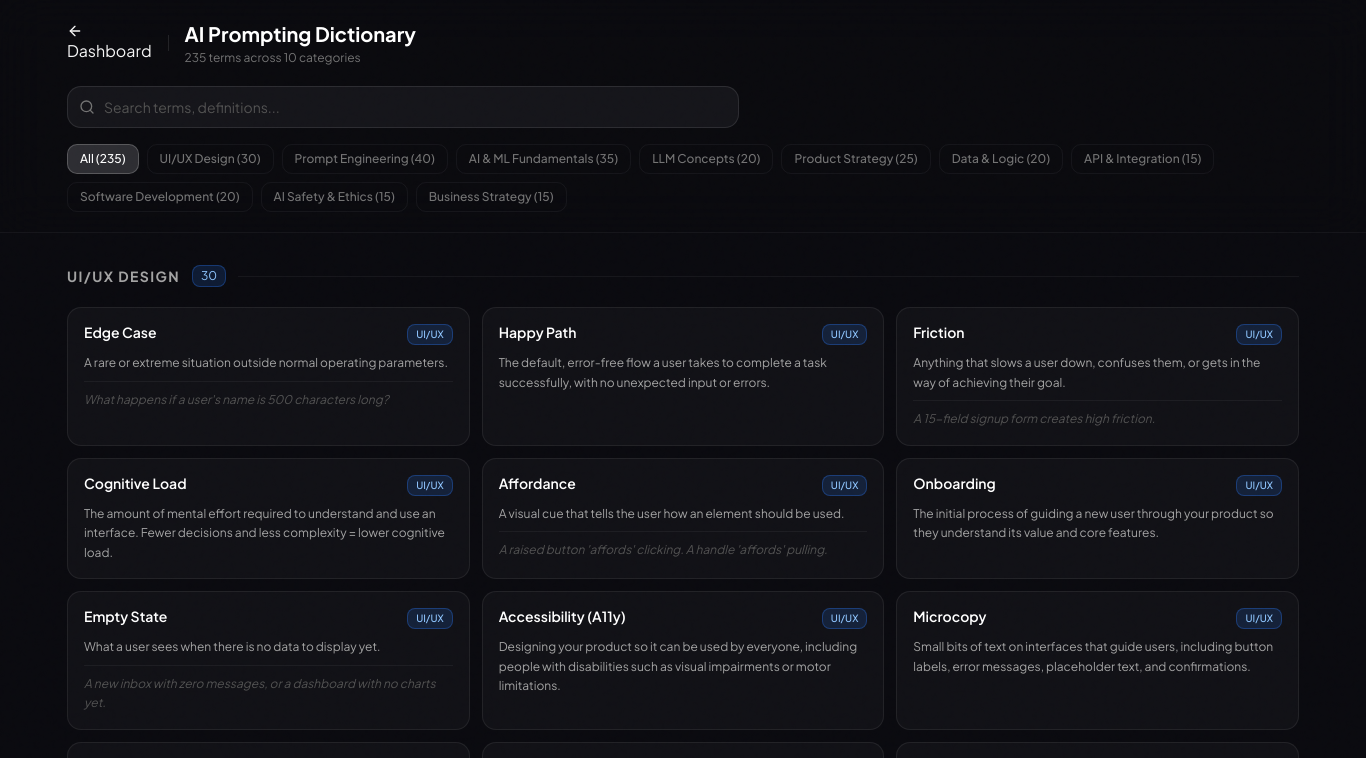
Test case: AI Prompting Dictionary › empty state renders for no results › shows empty state when search has no matches
Type "xyzzyxnonexistent" into the field with placeholder "Search terms, definitions..." at (403, 107), box [67, 86, 739, 128]
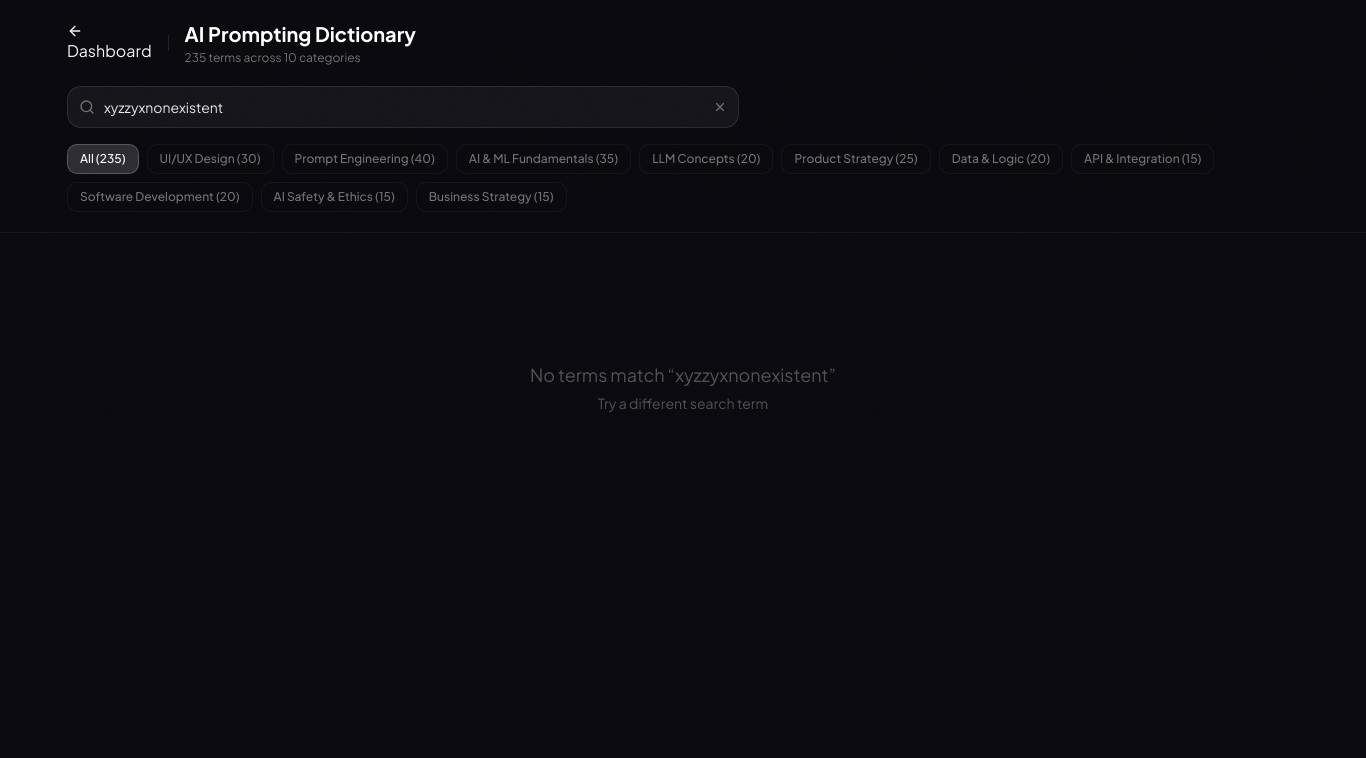
Expected: the text "Try a different search term" is shown, [598, 394, 768, 412]
